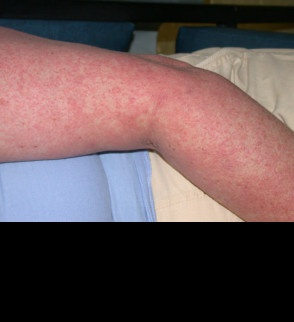SJS-TEN: (0, 4, 294, 221)
